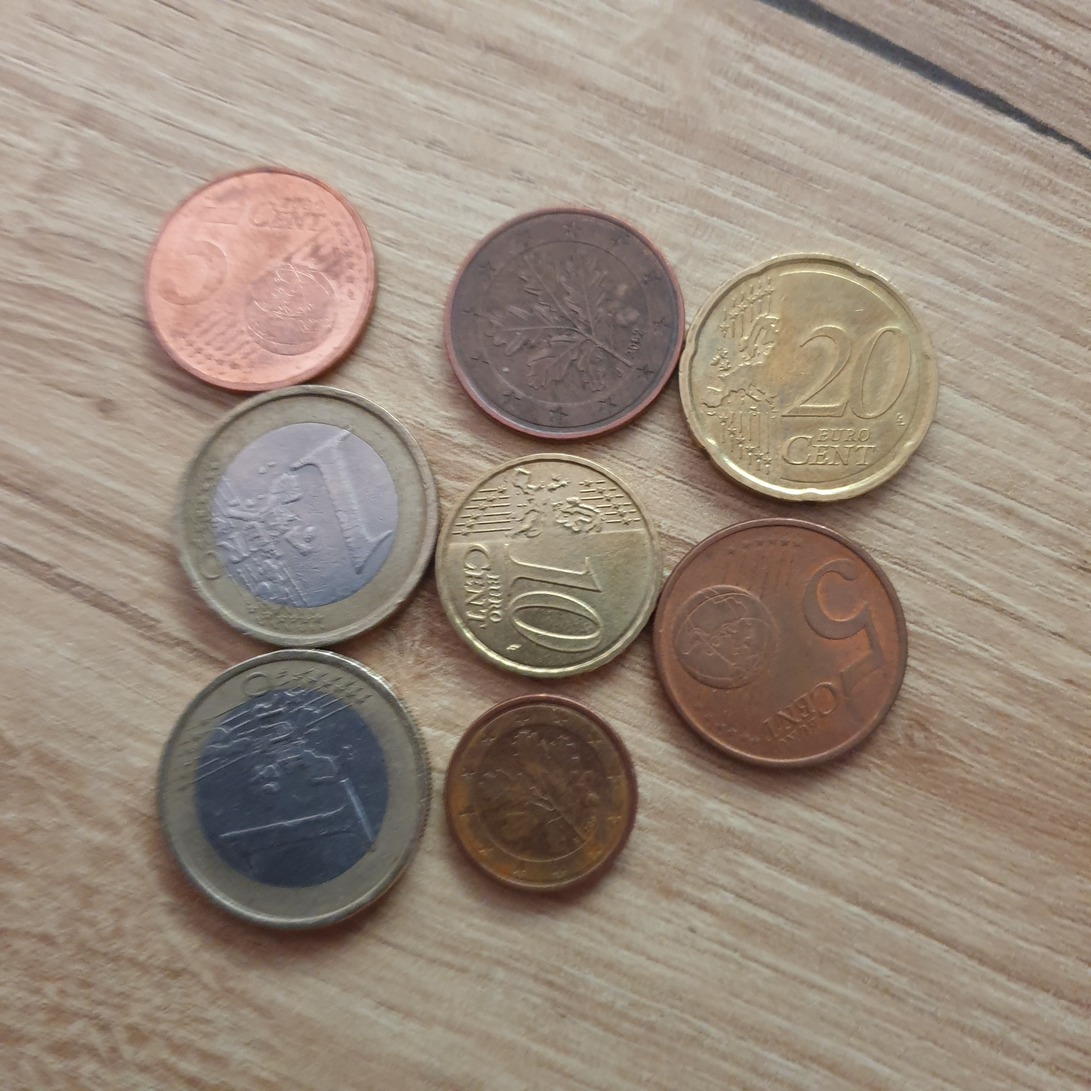1 cent: (438, 695, 653, 898)
1 euro: (146, 651, 432, 934), (167, 383, 446, 650)
10 cent: (440, 450, 660, 676)
2 cent: (449, 201, 686, 441)
20 cent: (677, 243, 936, 499)
5 cent: (642, 513, 913, 775), (143, 164, 376, 399)
